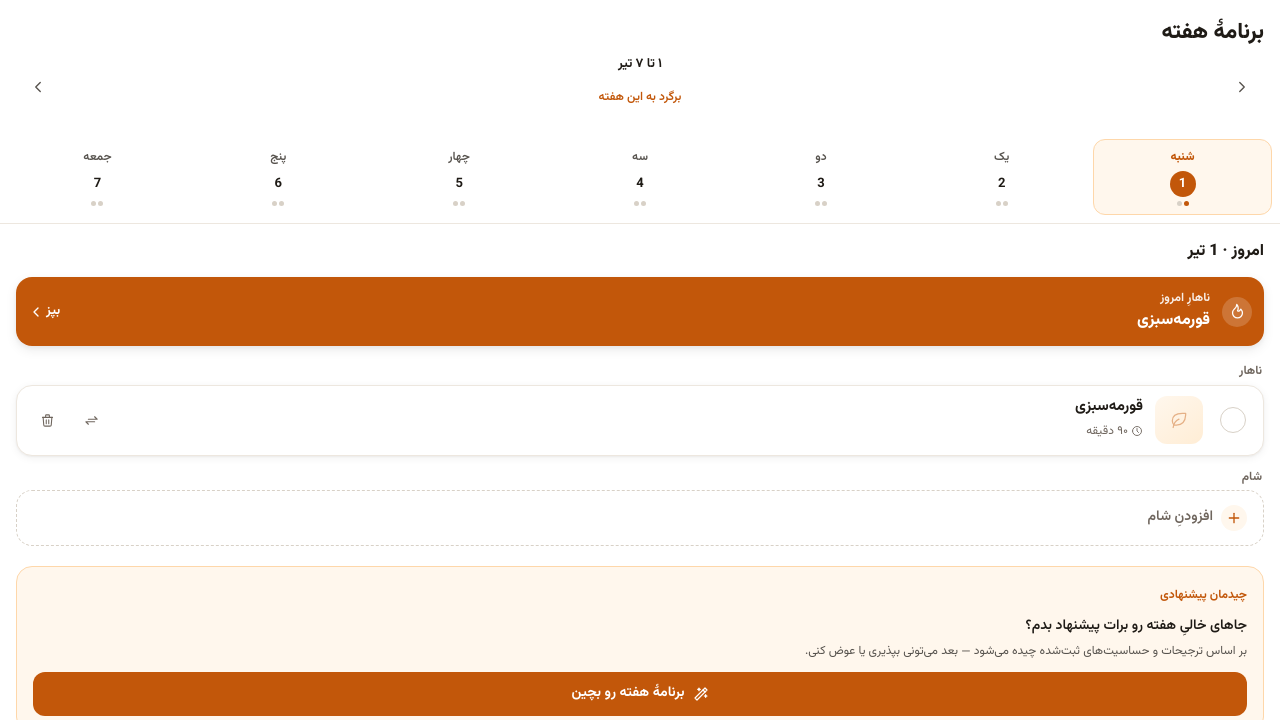
Test: PlanPage smoke › delete: a FAILED delete shows an honest error toast, never a success message
Click the button named "حذف از برنامه" at (47, 420), box [25,398,69,442]
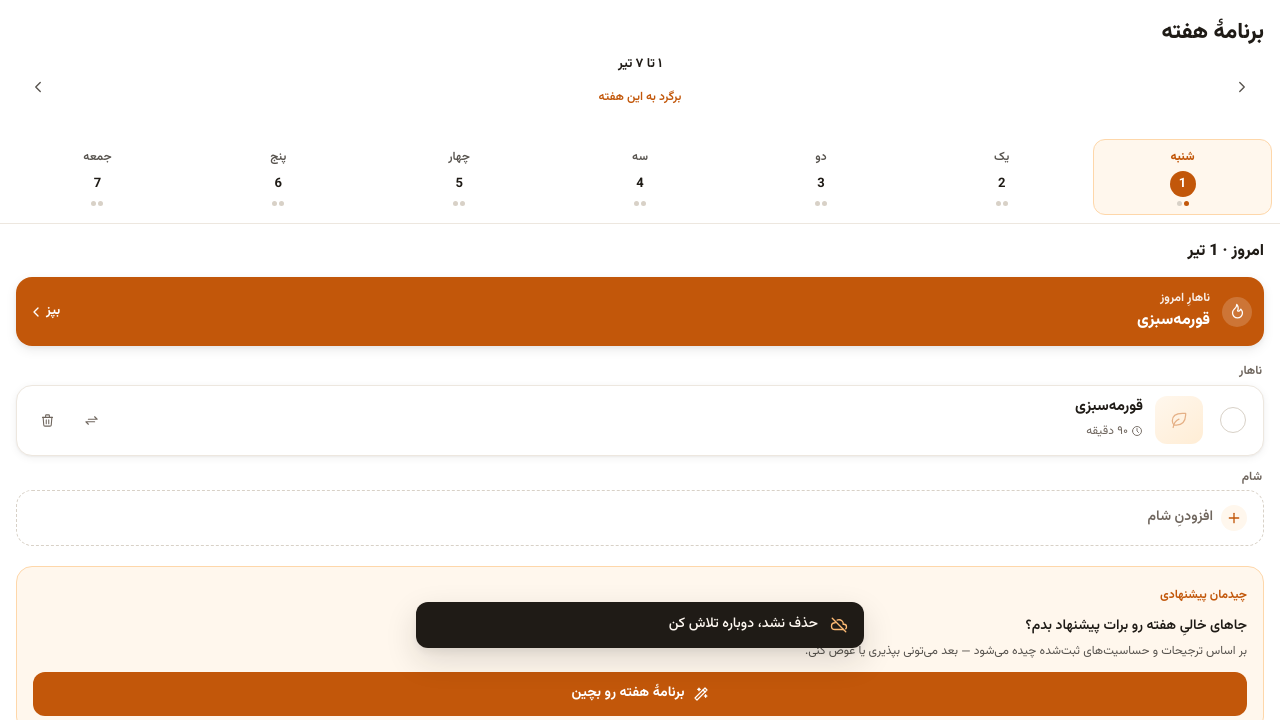
Result: the text "حذف نشد، دوباره تلاش کن" is shown at [669,613,818,635]
